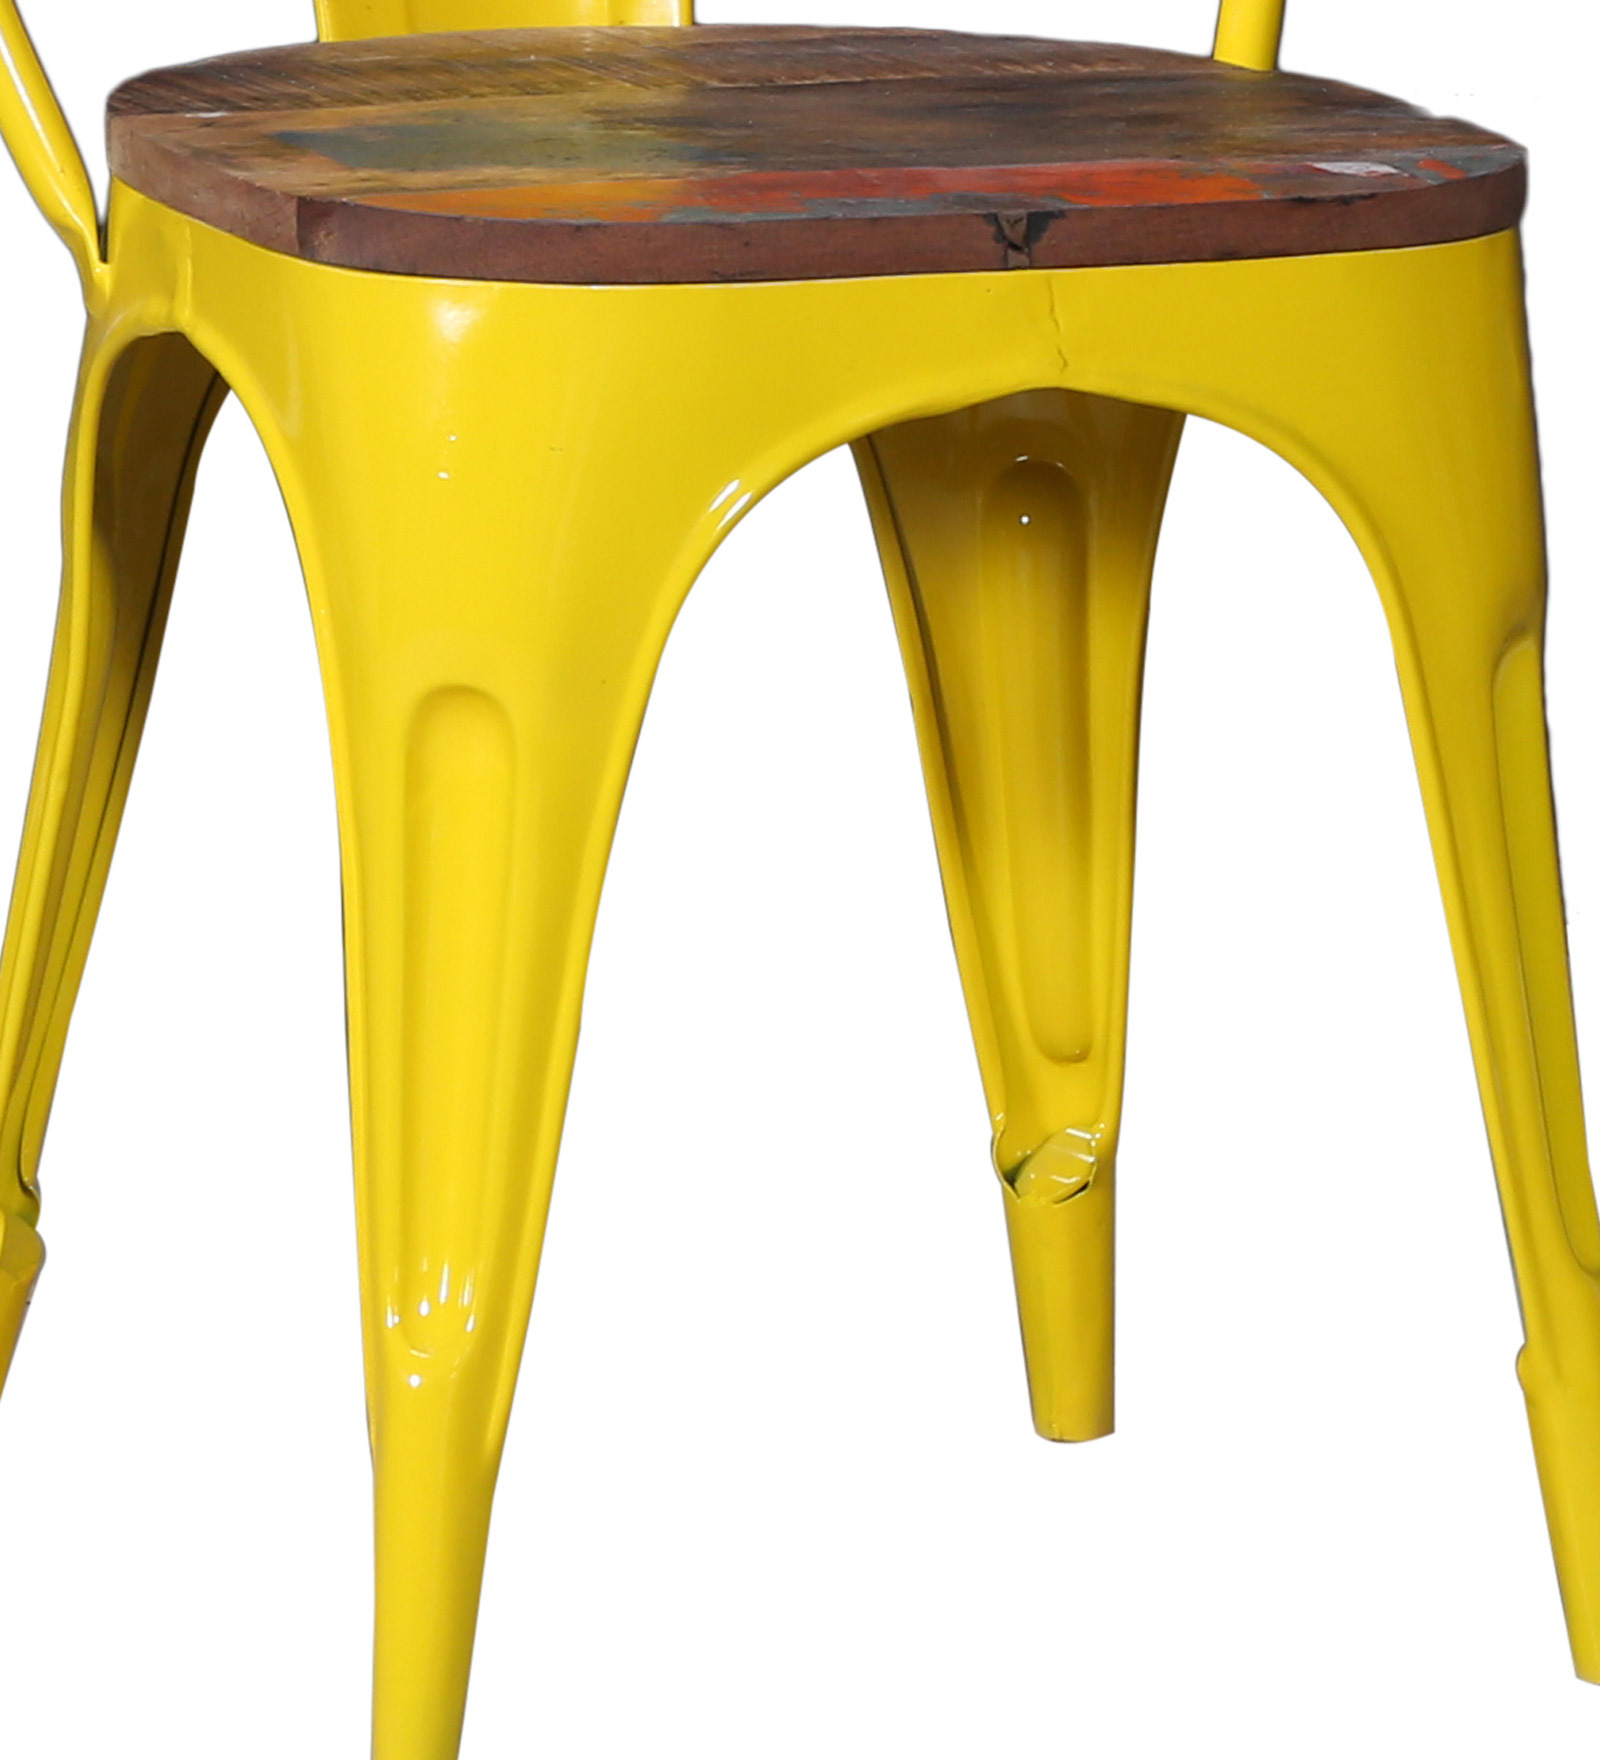Kumtor Metal Chair in Distress Yellow Color with Wooden Seat by Bohemiana: (12, 5, 1600, 1752)
